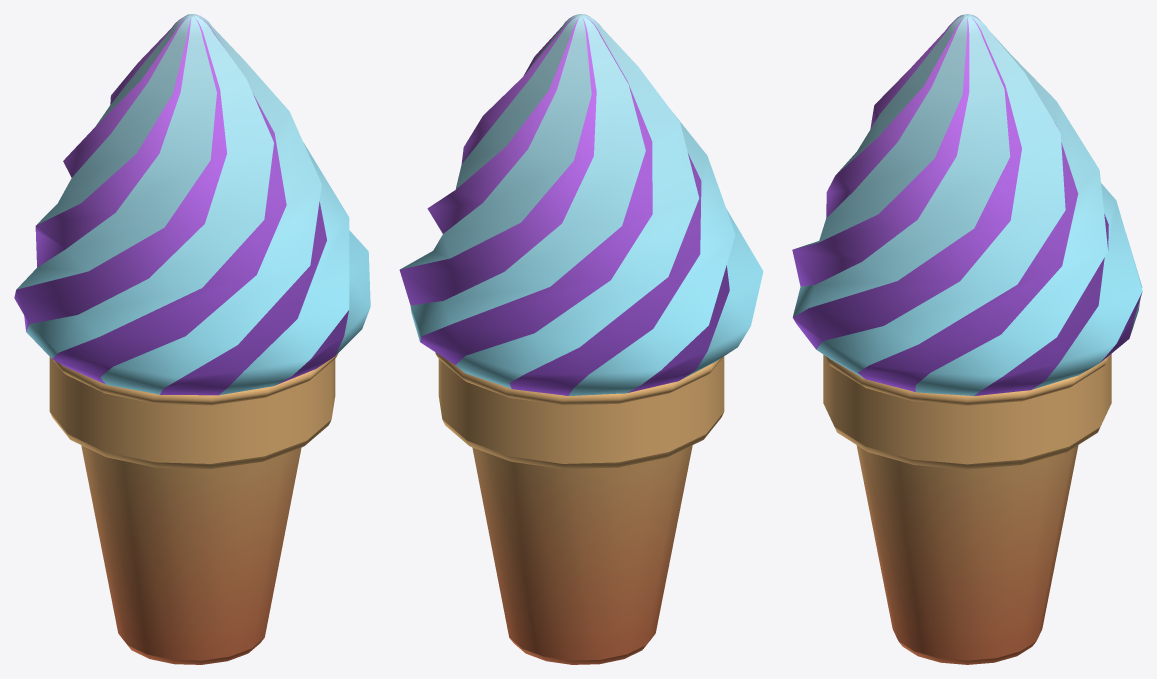
File: Icecream_V2_03.fbx
The picture shows the model from 3 angles, left to right: view 1: azimuth 30°, elevation 25°; view 2: azimuth 150°, elevation 25°; view 3: azimuth 270°, elevation 25°; orthographic projection.
Parts seen in each view (by area): view 1: Icecream_V2_03; view 2: Icecream_V2_03; view 3: Icecream_V2_03.
Part boxes in pixels (x1,y1,x2,y2): Icecream_V2_03: (14,14,370,664); Icecream_V2_03: (399,14,763,664); Icecream_V2_03: (792,14,1142,664).
Bounding box in the file's own units: 27.73 × 54.33 × 27.73.
